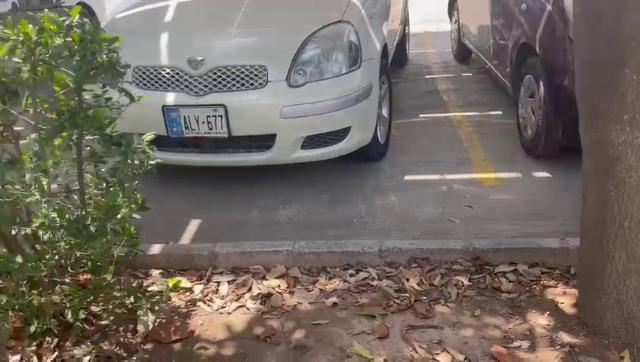plate: (158, 102, 235, 142)
